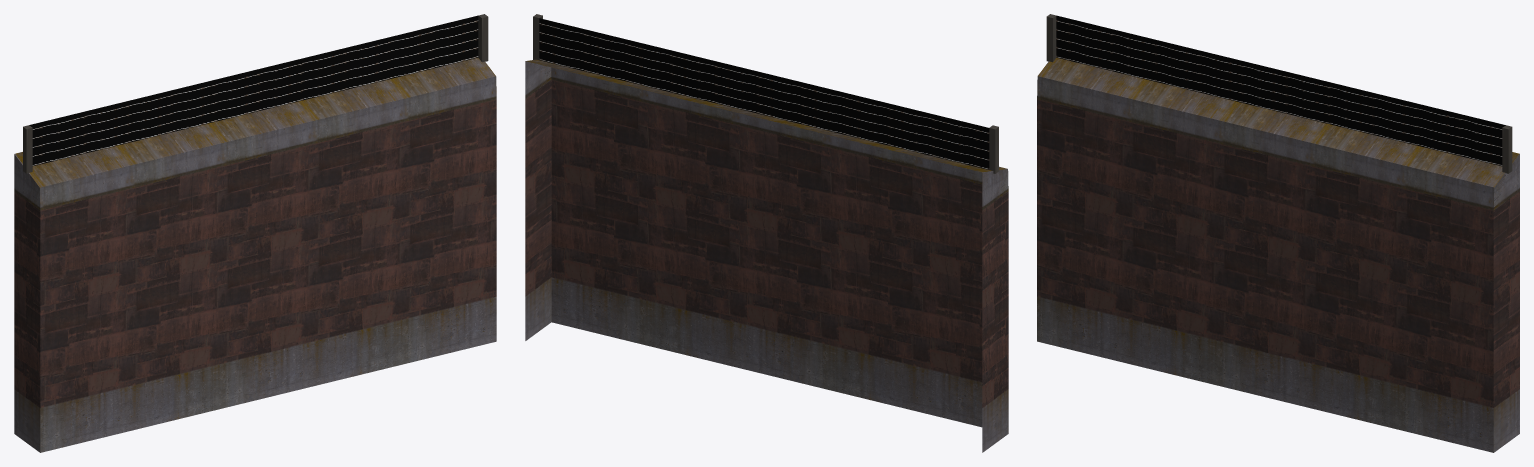
Rendered from Wall A Barbed.fbx.
3 renders of one model, left to right at view 1: azimuth 30°, elevation 25°; view 2: azimuth 150°, elevation 25°; view 3: azimuth 330°, elevation 25°, orthographic.
Visible parts, largest first — view 1: Cube.054, Cube.058; view 2: Cube.054, Cube.058; view 3: Cube.054, Cube.058.
Boxes of the visible parts, <box> form: Cube.054: <box>14,57,496,452</box>; Cube.058: <box>23,14,488,173</box>; Cube.054: <box>525,59,1008,452</box>; Cube.058: <box>533,14,998,173</box>; Cube.054: <box>1037,57,1519,452</box>; Cube.058: <box>1046,14,1512,173</box>.
Size of the model in its own units: 2043 by 1335 by 200.
